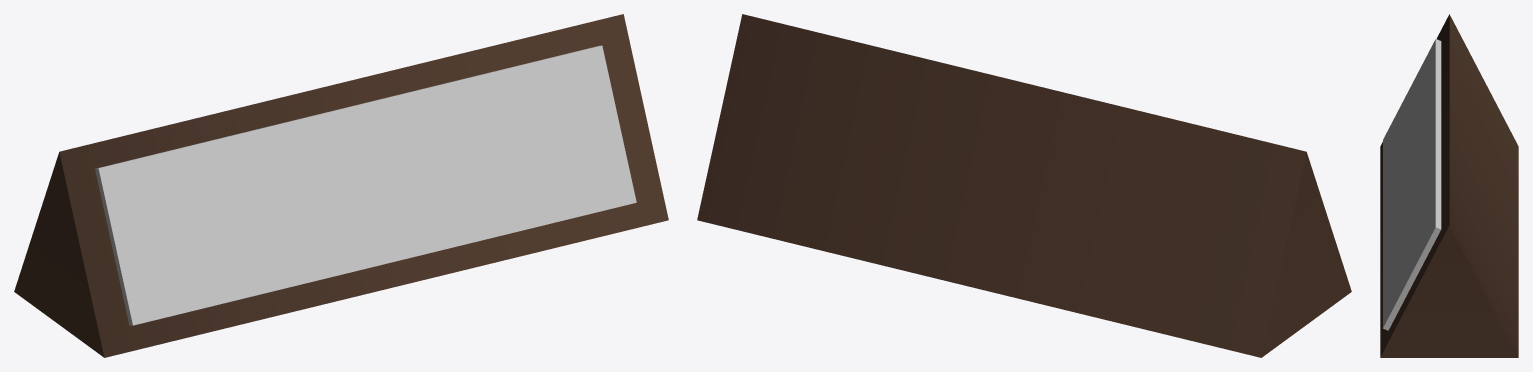
The model's file is SM_CartelJefe.fbx.
3 renders of one model, left to right at view 1: azimuth 30°, elevation 25°; view 2: azimuth 150°, elevation 25°; view 3: azimuth 270°, elevation 25°, orthographic. The views are drawn at different scales.
Parts seen in each view (by area): view 1: Cube.001, Cube; view 2: Cube; view 3: Cube, Cube.001.
Part boxes in pixels (<box>): Cube.001: <box>95,45,636,325</box>; Cube: <box>14,14,668,357</box>; Cube: <box>697,14,1351,357</box>; Cube: <box>1380,14,1518,357</box>; Cube.001: <box>1383,39,1441,330</box>.
Size of the model in its own units: 36.55 by 10.72 by 10.14.
